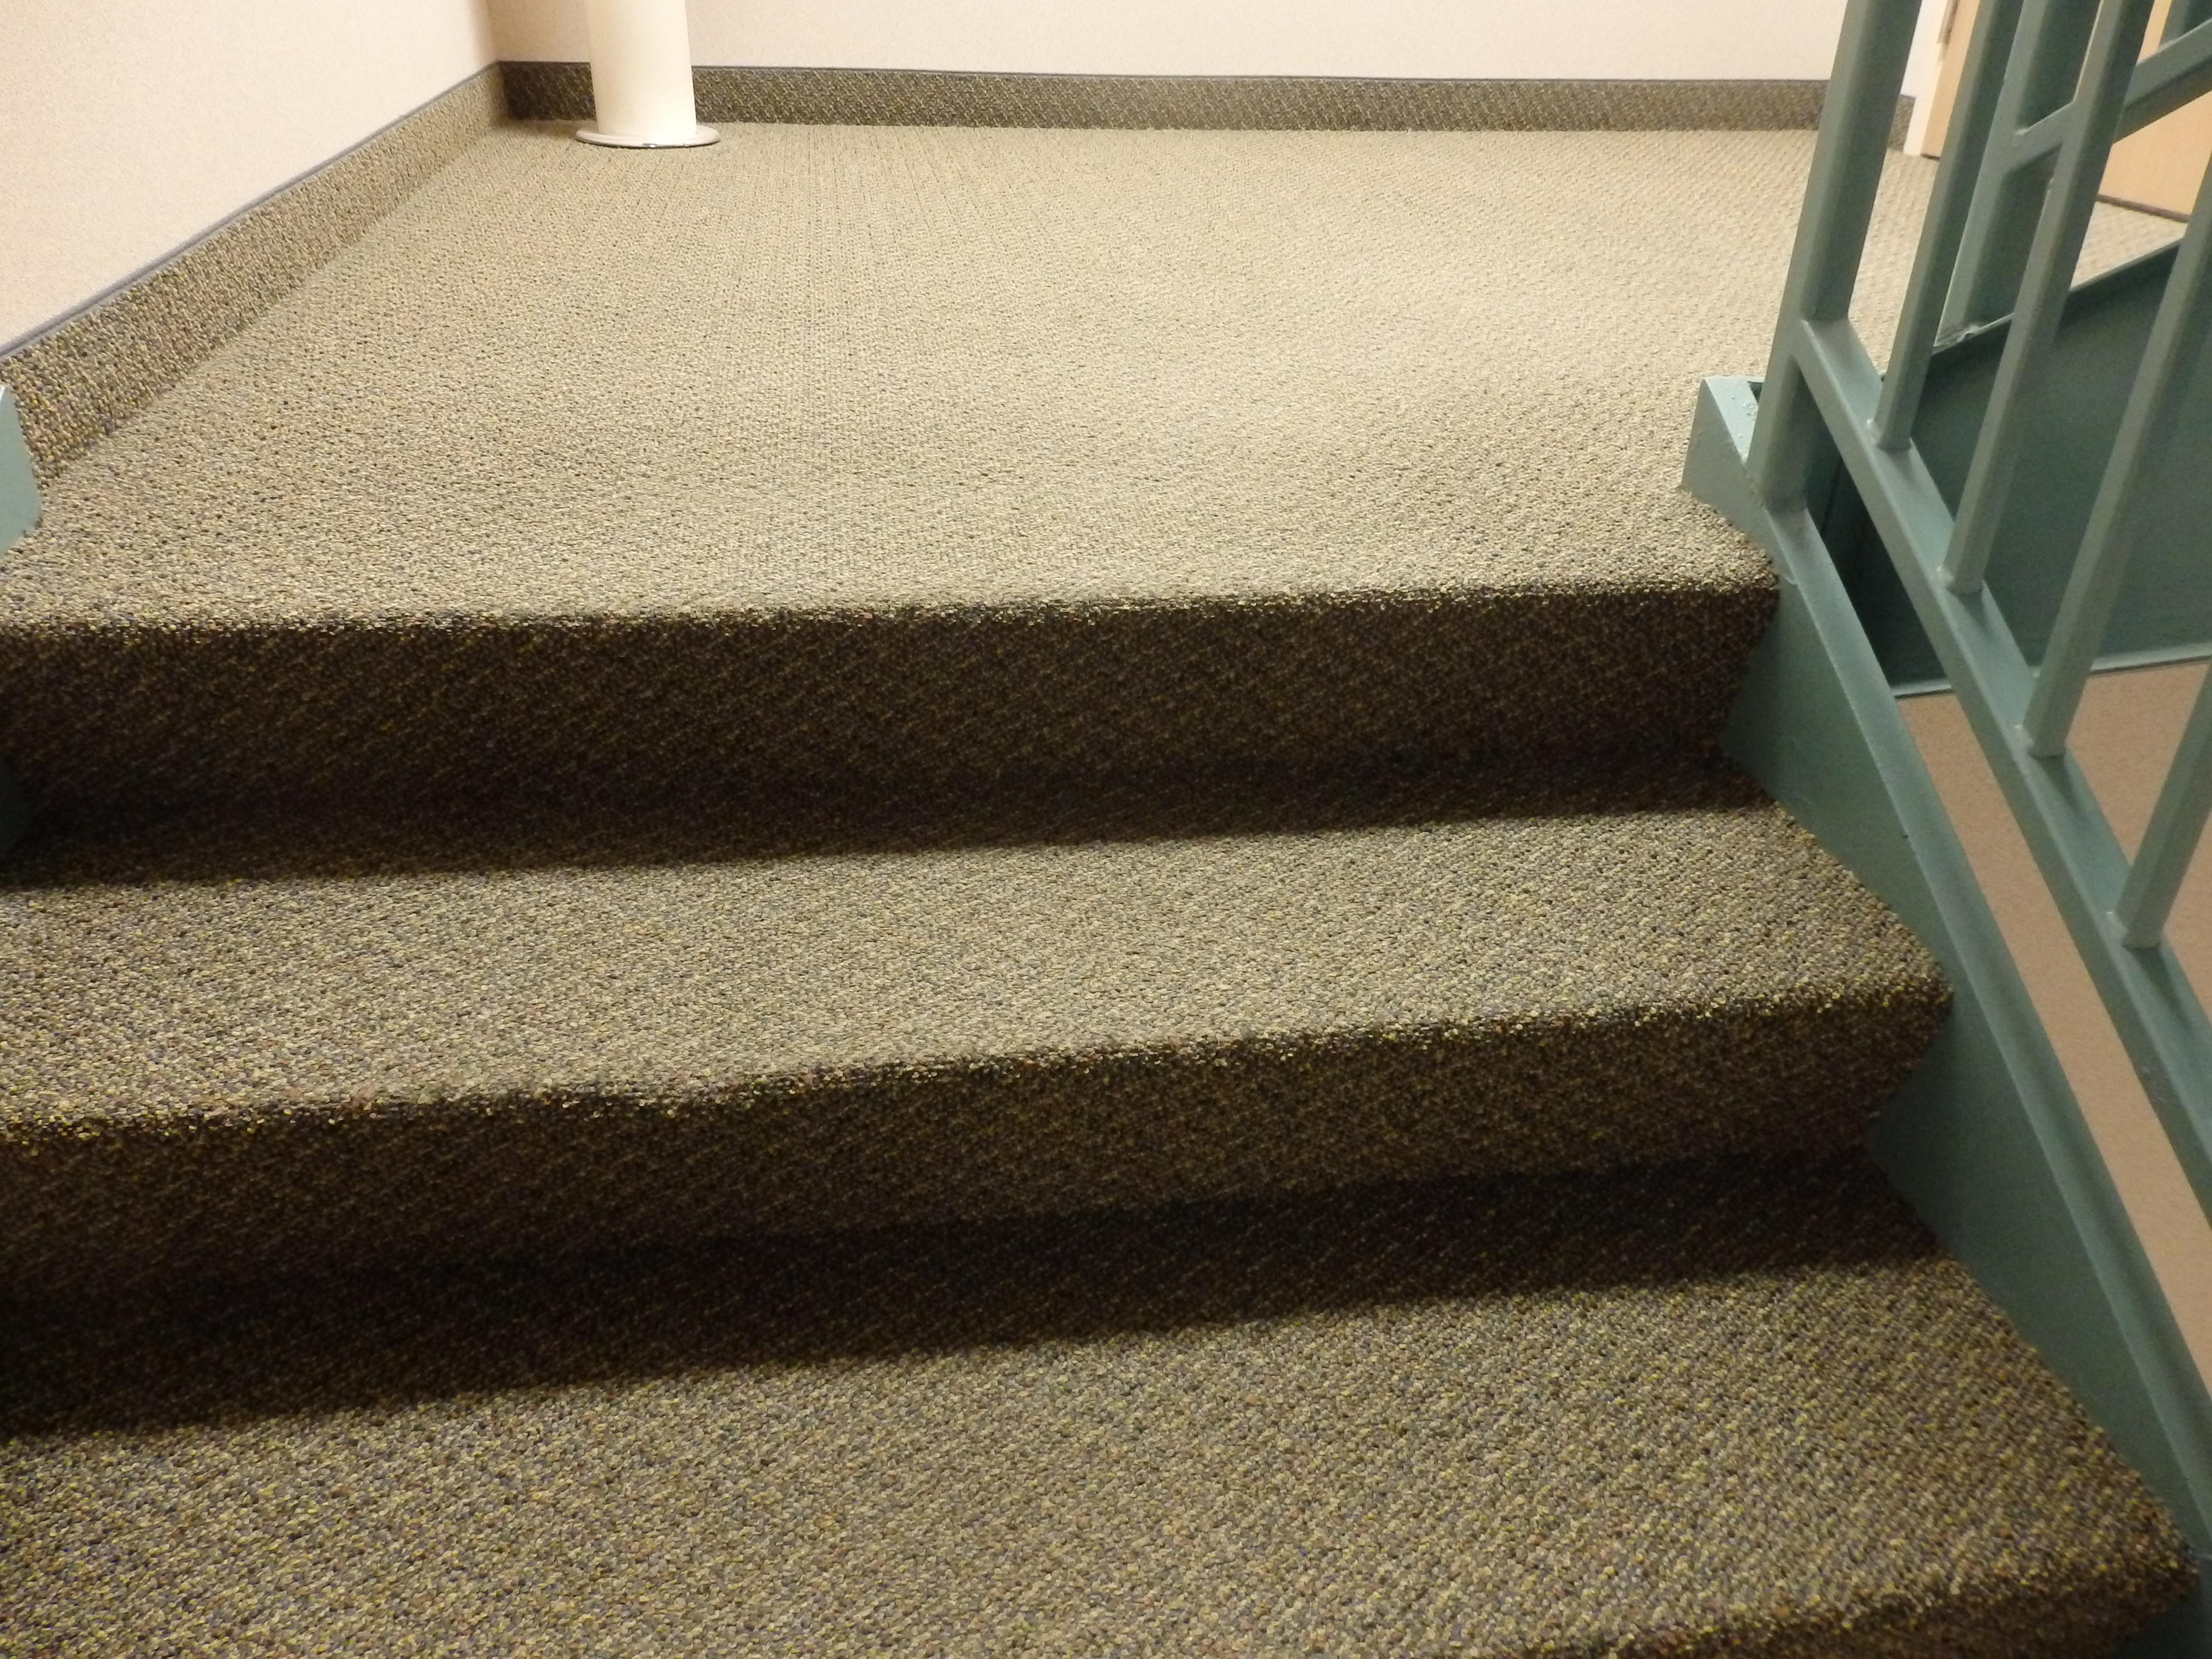stairs_up: (16, 556, 2158, 1640)
